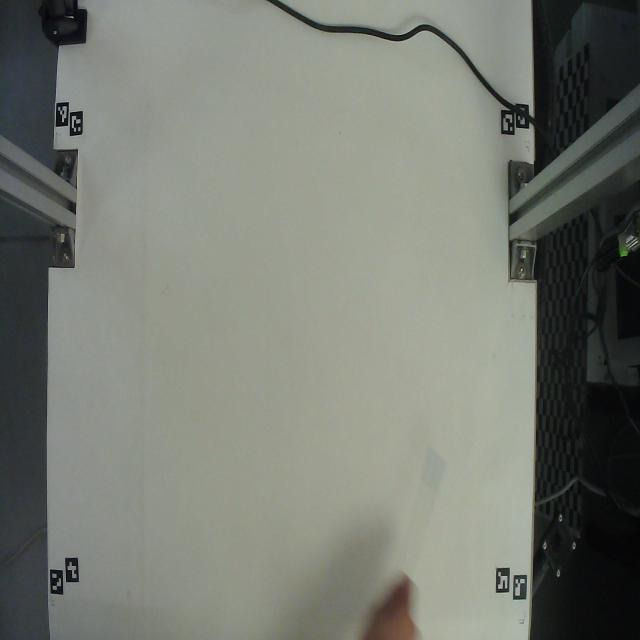NoPres: (366, 428, 466, 617)
